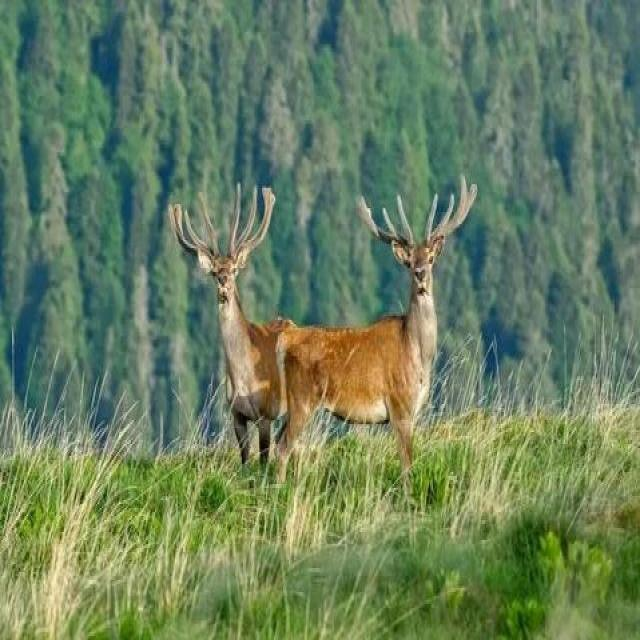deer: (291, 132, 478, 480), (143, 152, 294, 441)
